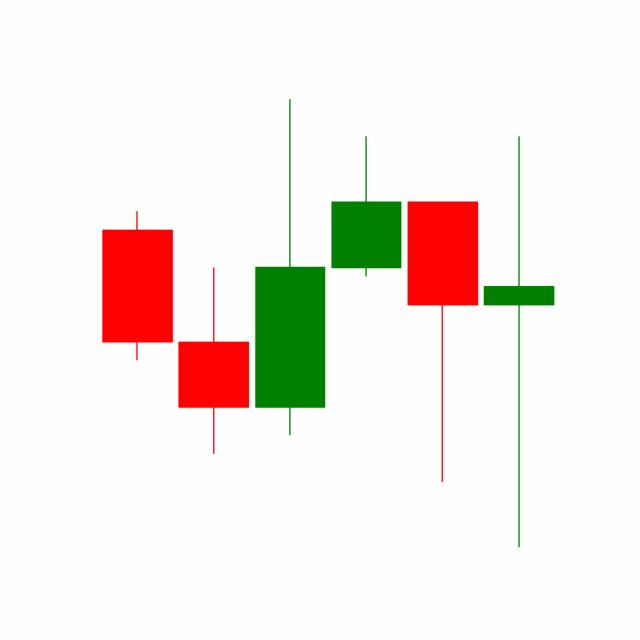Hammer: (403, 199, 481, 485)
